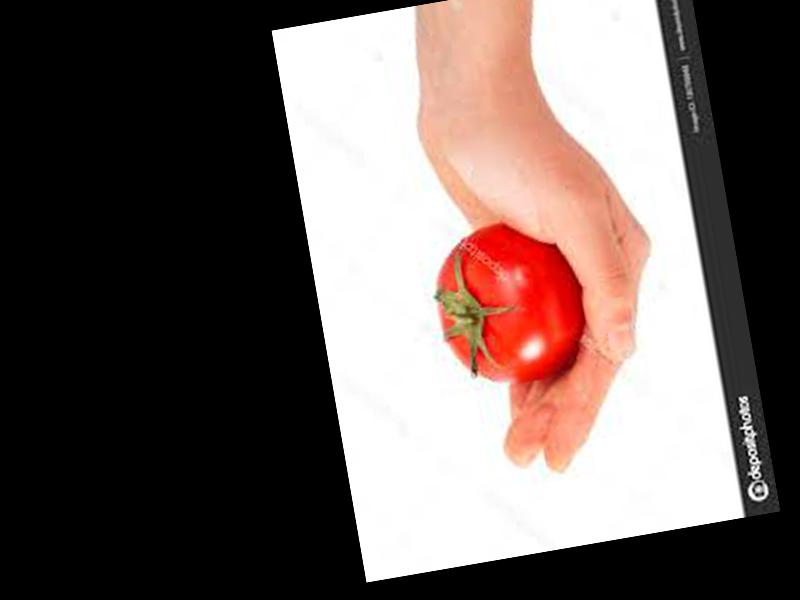Tomato: (426, 211, 591, 390)
